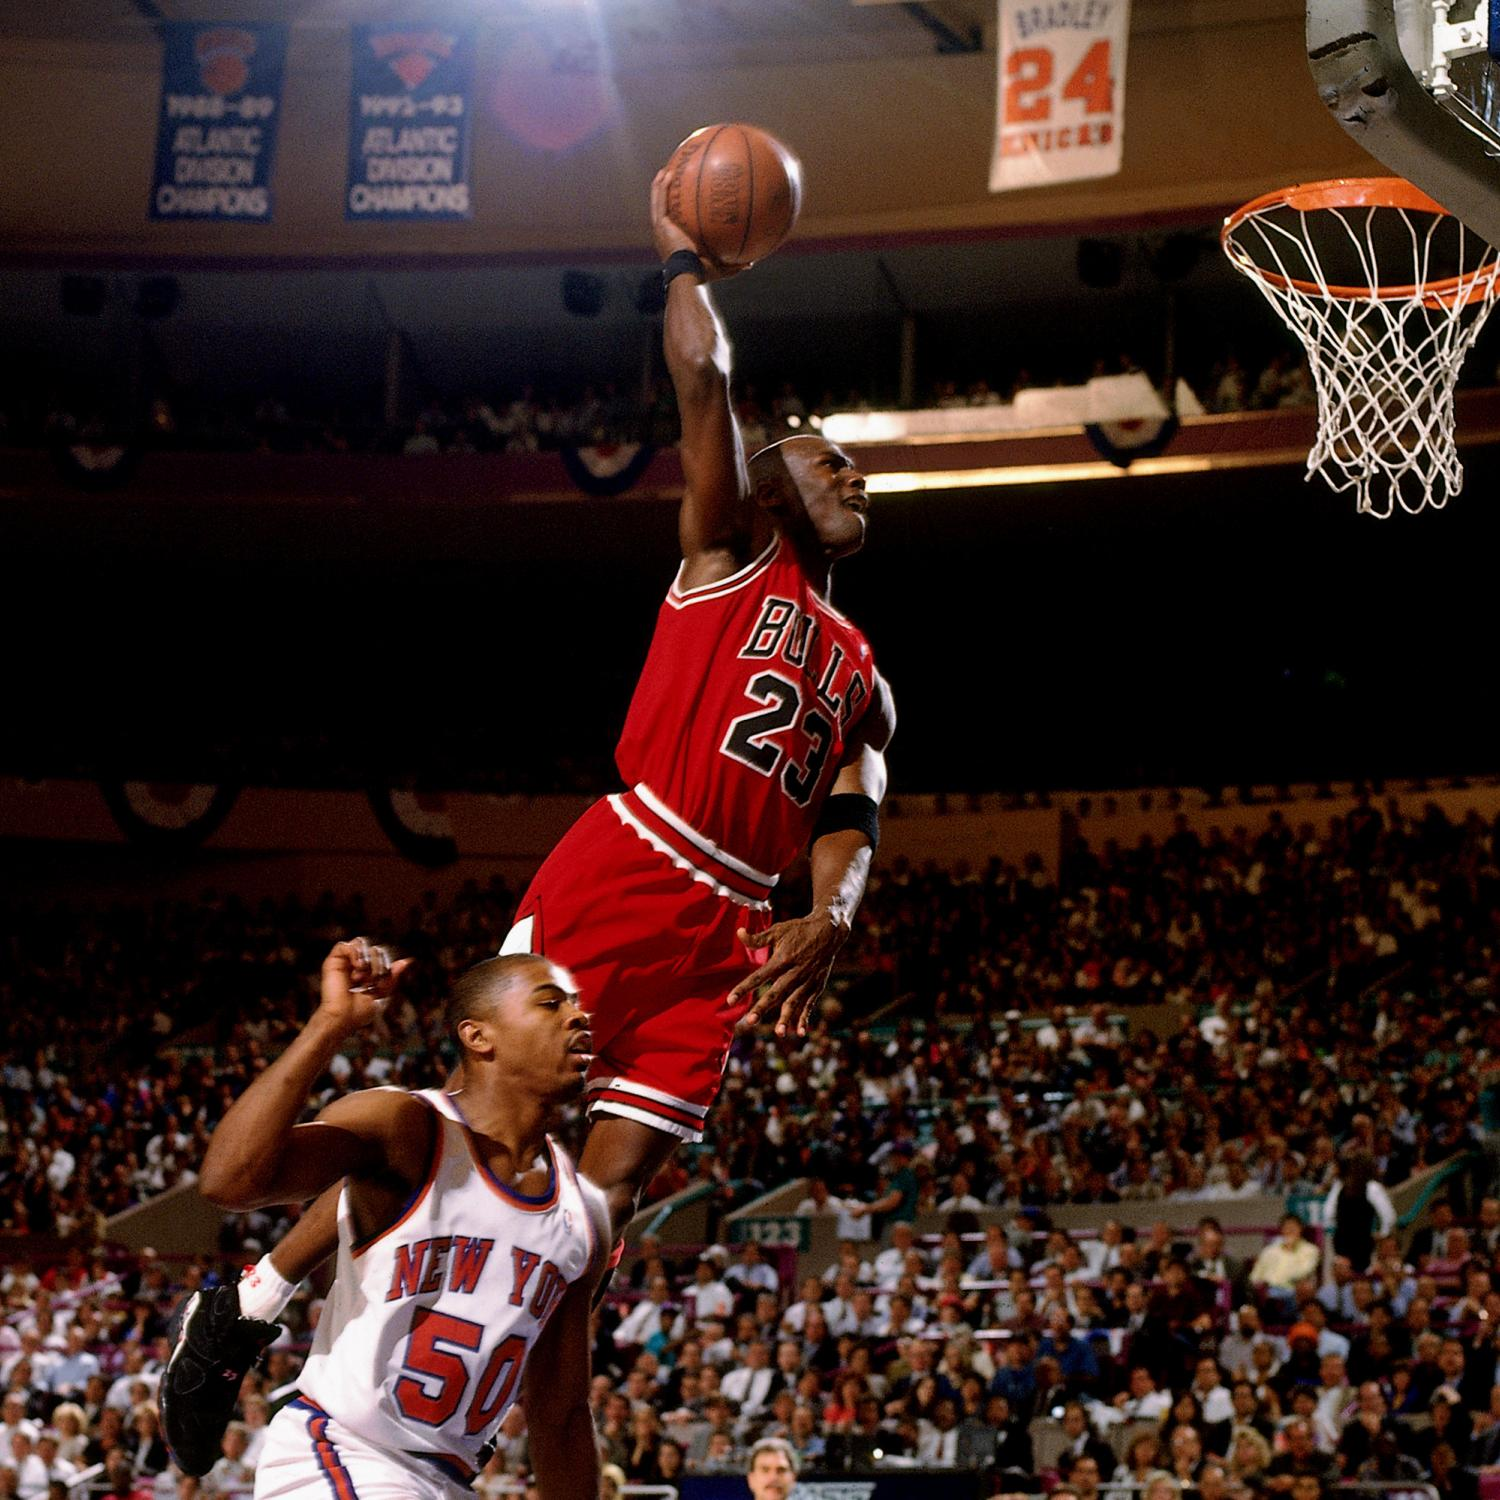ball: (652, 103, 821, 282)
basket: (1152, 139, 1500, 555)
defense: (163, 900, 681, 1500)
dunk: (479, 82, 970, 1176)
